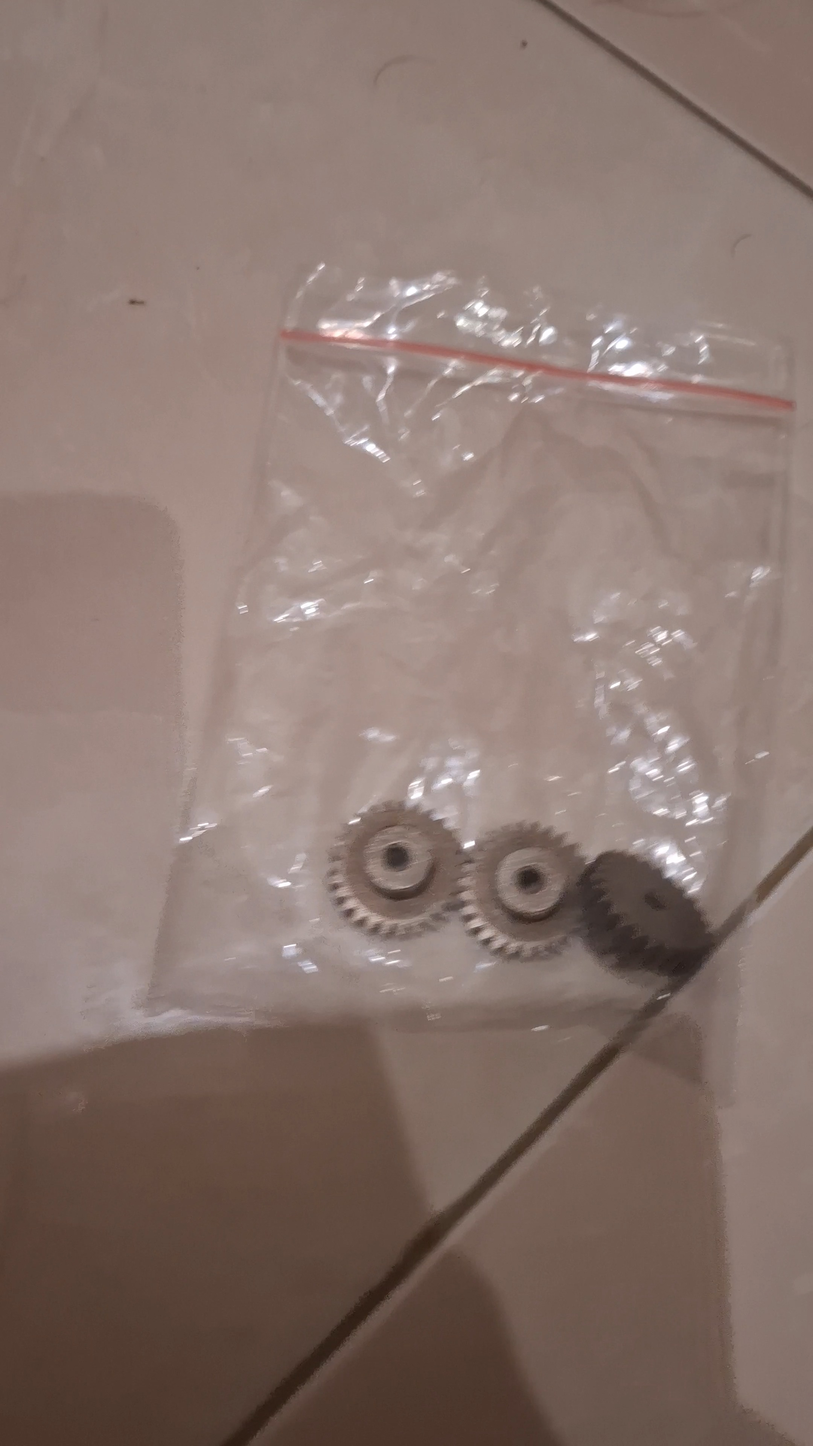spur gear: (322, 800, 470, 938), (457, 819, 594, 958), (576, 847, 717, 976)
